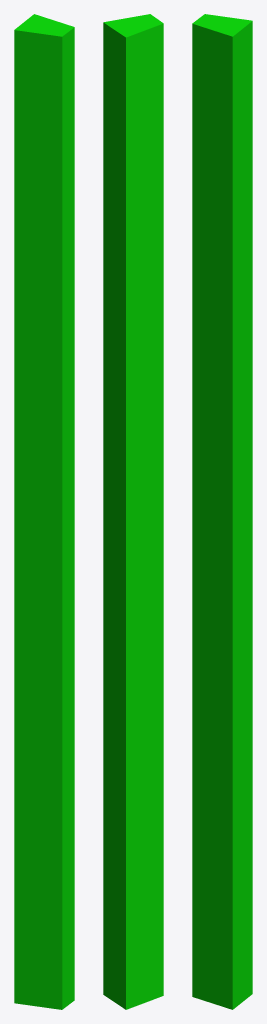
3 views of the same model, side by side, from view 1: azimuth 90°, elevation 25°; view 2: azimuth 150°, elevation 25°; view 3: azimuth 270°, elevation 25° (orthographic).
Parts seen in each view (by area): view 1: Plane.036; view 2: Plane.036; view 3: Plane.036.
Part boxes in pixels (<box>): Plane.036: <box>14,14,74,1009</box>; Plane.036: <box>103,14,163,1009</box>; Plane.036: <box>192,14,252,1009</box>.
Size of the model in its own units: 589 by 11751 by 664.
